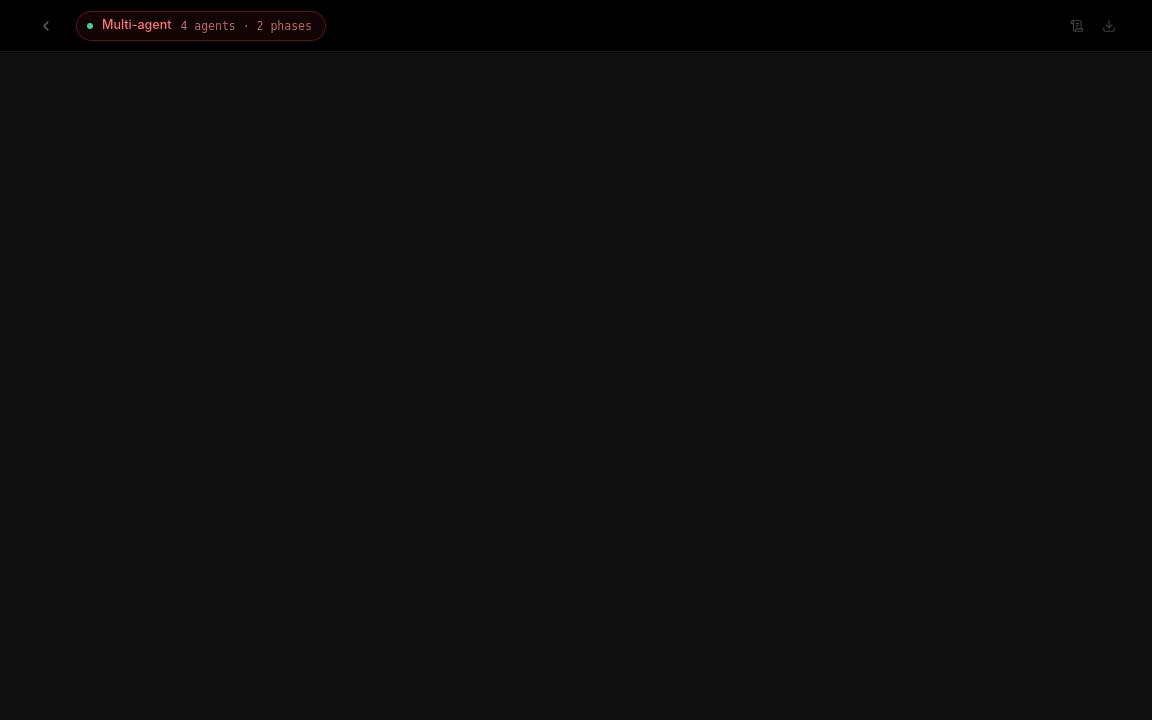
it: hover card › opens on hover, stays while the pointer moves into it, closes after leaving
This screenshot has width=1152, height=720.
Hover over the element showing "Multi-agent 4 agents · 2 phases" at (201, 26), box x1=76 y1=10 x2=326 y2=40
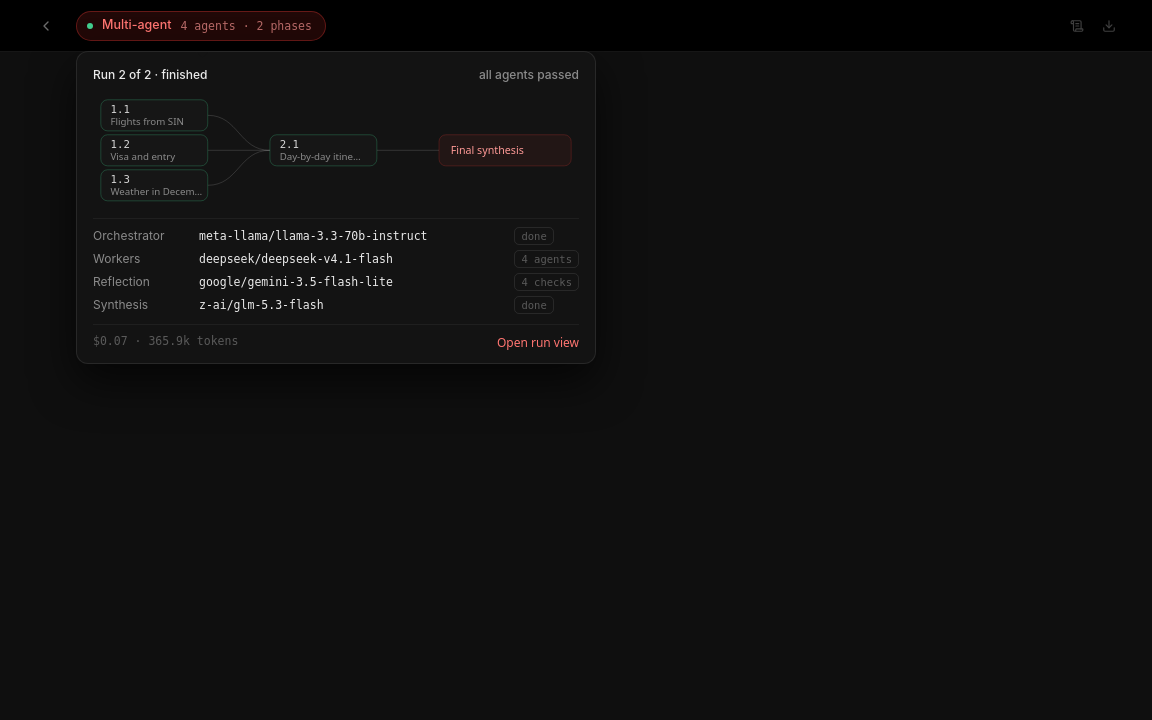
Now the dialog with test id "mode-card" is shown, box x1=76 y1=50 x2=596 y2=364
Hover over the element named "1.1 Flights from SIN — done1.1Flights from SIN1.2 Visa and e" at (201, 26), box x1=76 y1=10 x2=326 y2=40
Now the dialog with test id "mode-card" is shown, box x1=76 y1=50 x2=596 y2=364
Move the pointer off the element named "1.1 Flights from SIN — done1.1Flights from SIN1.2 Visa and e", box x1=76 y1=10 x2=326 y2=40
Wait 200 ms
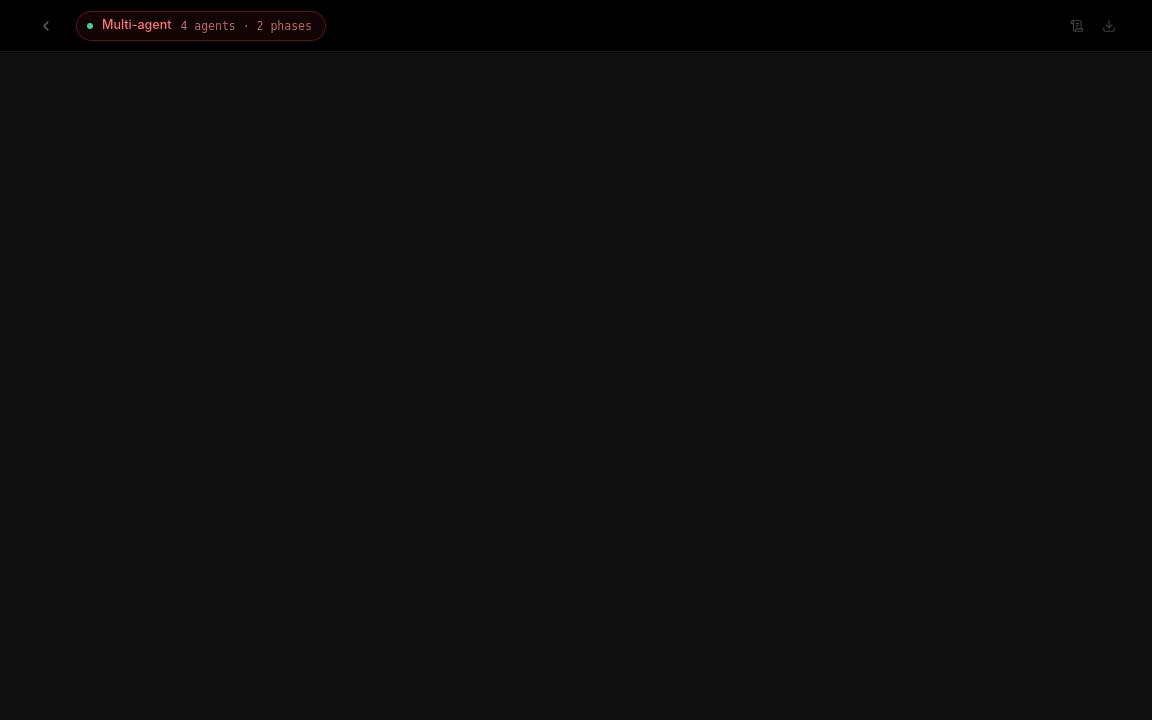
Now the dialog with test id "mode-card" is gone
